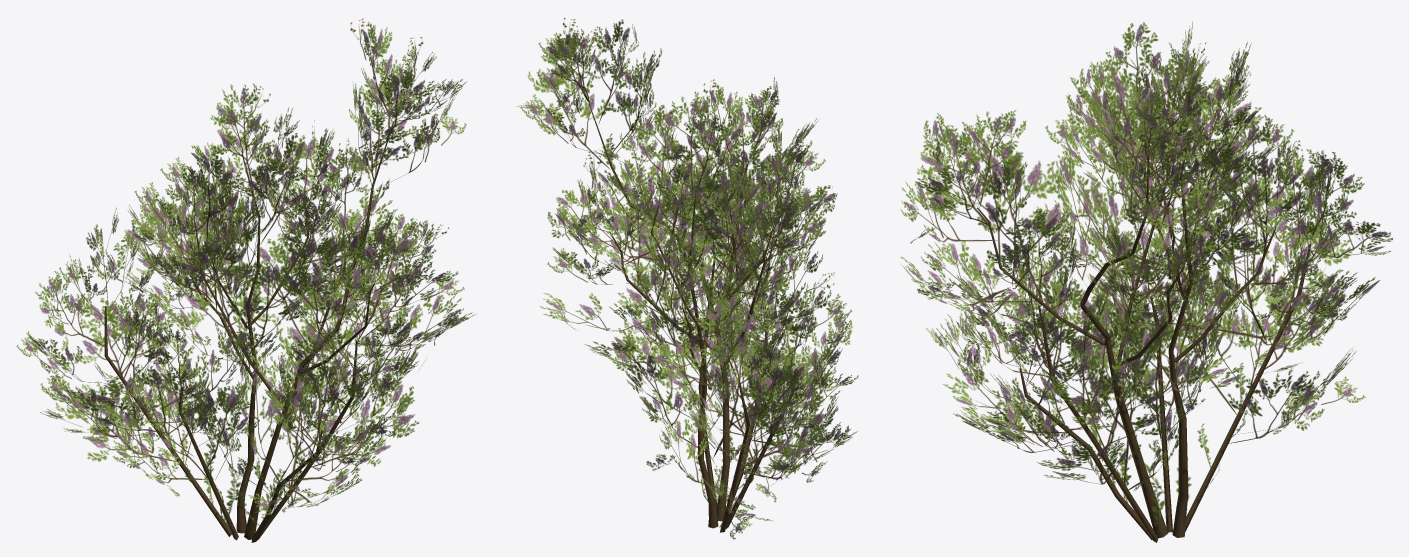
Rendered from tbush1.glb.
The picture shows the model from 3 angles, left to right: view 1: azimuth 30°, elevation 25°; view 2: azimuth 150°, elevation 25°; view 3: azimuth 270°, elevation 25°; orthographic projection. The views are drawn at different scales.
Parts seen in each view (by area): view 1: prefab; view 2: prefab; view 3: prefab.
Boxes of the visible parts, bbox=[...] form: prefab: bbox=[16, 18, 475, 542]; prefab: bbox=[517, 18, 858, 539]; prefab: bbox=[900, 22, 1392, 542].
Size of the model in its own units: 2.13 by 2.53 by 1.99.
2 materials, 2 textured.
